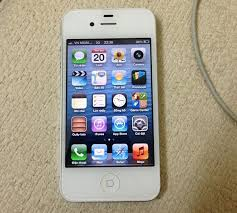iphone: (57, 2, 162, 200)
iphone4: (57, 4, 162, 202)
